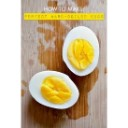begg: (63, 26, 99, 70), (30, 72, 70, 109)
